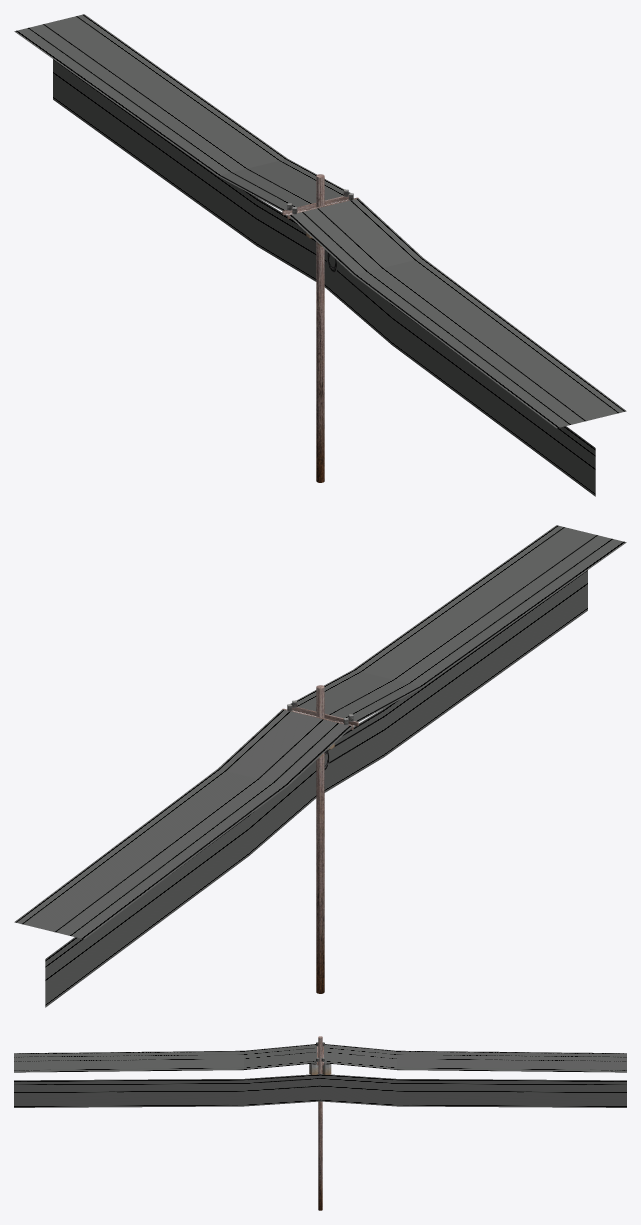
File: tpole40_1a.fbx
3 renders of one model, top to bottom at view 1: azimuth 30°, elevation 25°; view 2: azimuth 150°, elevation 25°; view 3: azimuth 270°, elevation 25°, orthographic. The views are drawn at different scales.
Visible parts, largest first — view 1: mesh_0; view 2: mesh_0; view 3: mesh_0.
Boxes of the visible parts, box(x1,y1,x2,y2) form: mesh_0: box(14, 14, 626, 496); mesh_0: box(14, 525, 626, 1007); mesh_0: box(14, 1036, 626, 1210).
Bounding box in the file's own units: 300 × 1242 × 4000.
Materials: 1 (1 with a texture image).
